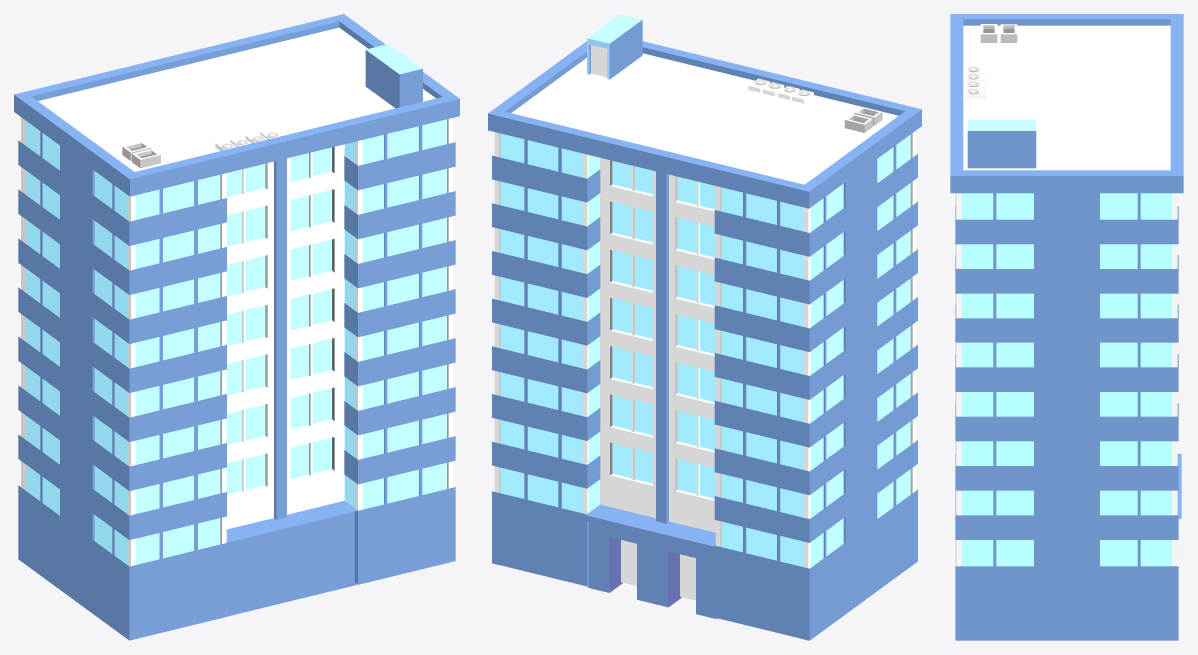
The model's file is apartment 1.003.glb.
3 renders of one model, left to right at view 1: azimuth 30°, elevation 25°; view 2: azimuth 150°, elevation 25°; view 3: azimuth 270°, elevation 25°, orthographic. The views are drawn at different scales.
Visible parts, largest first — view 1: apartment 1.003(Clone); view 2: apartment 1.003(Clone); view 3: apartment 1.003(Clone).
Part boxes in pixels (bbox=[...]): apartment 1.003(Clone): bbox=[14, 14, 459, 640]; apartment 1.003(Clone): bbox=[488, 14, 921, 640]; apartment 1.003(Clone): bbox=[950, 14, 1183, 640].
Size of the model in its own units: 15.24 by 21.94 by 9.27.
Materials: 1 (1 with a texture image).
